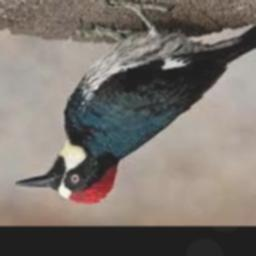Woodpecker: (14, 0, 256, 205)
